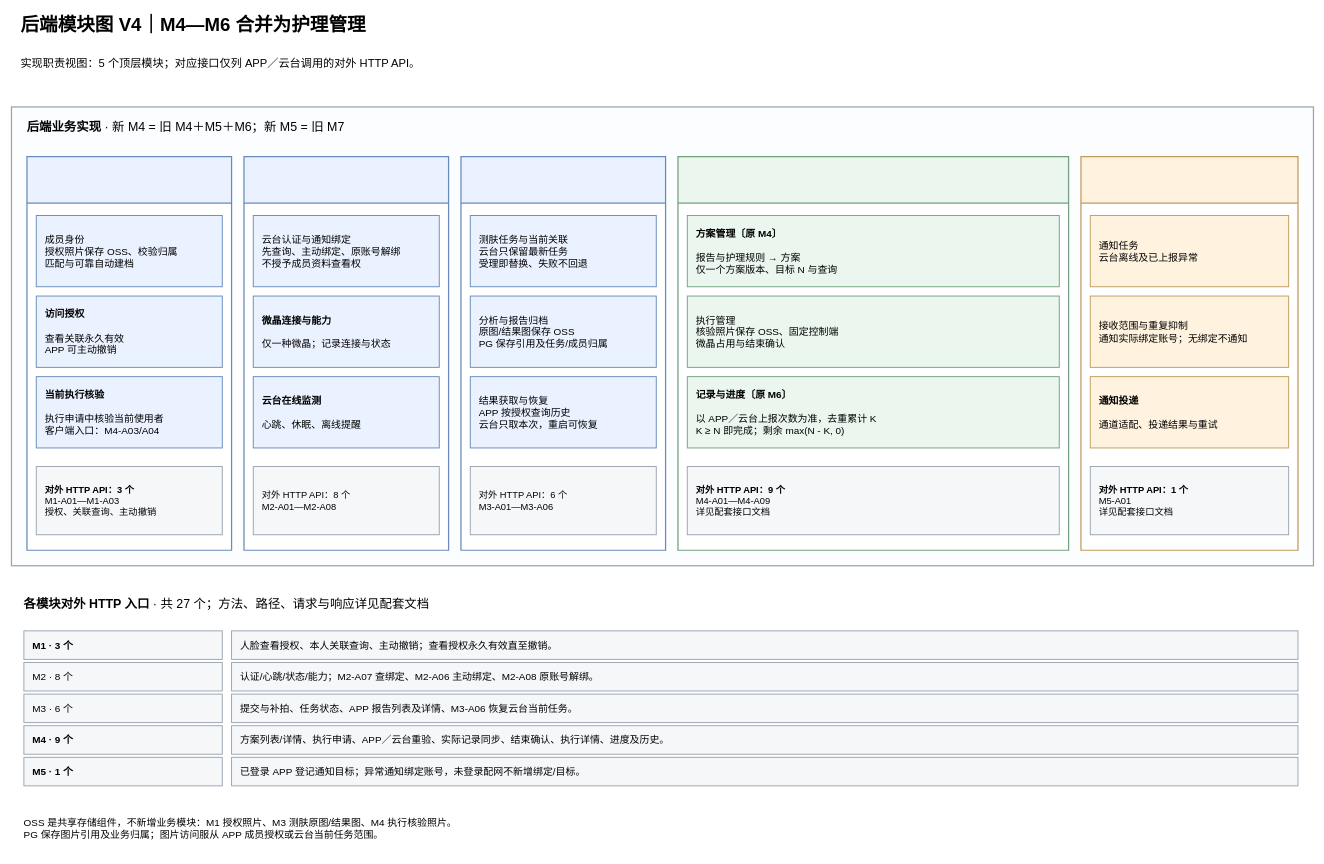
This 1324x864 diagram has some shape labels left out. Each missing label, with the box of its shape:
M1 成员身份与访问授权 原 M1: (26, 156, 232, 551)
M2 云台与微晶管理 原 M2: (243, 156, 449, 551)
M3 测肤任务与报告 原 M3: (460, 156, 666, 551)
M4 护理管理 原 M4＋M5＋M6: (677, 156, 1069, 551)
M5 消息通知 原 M7: (1080, 156, 1298, 551)
